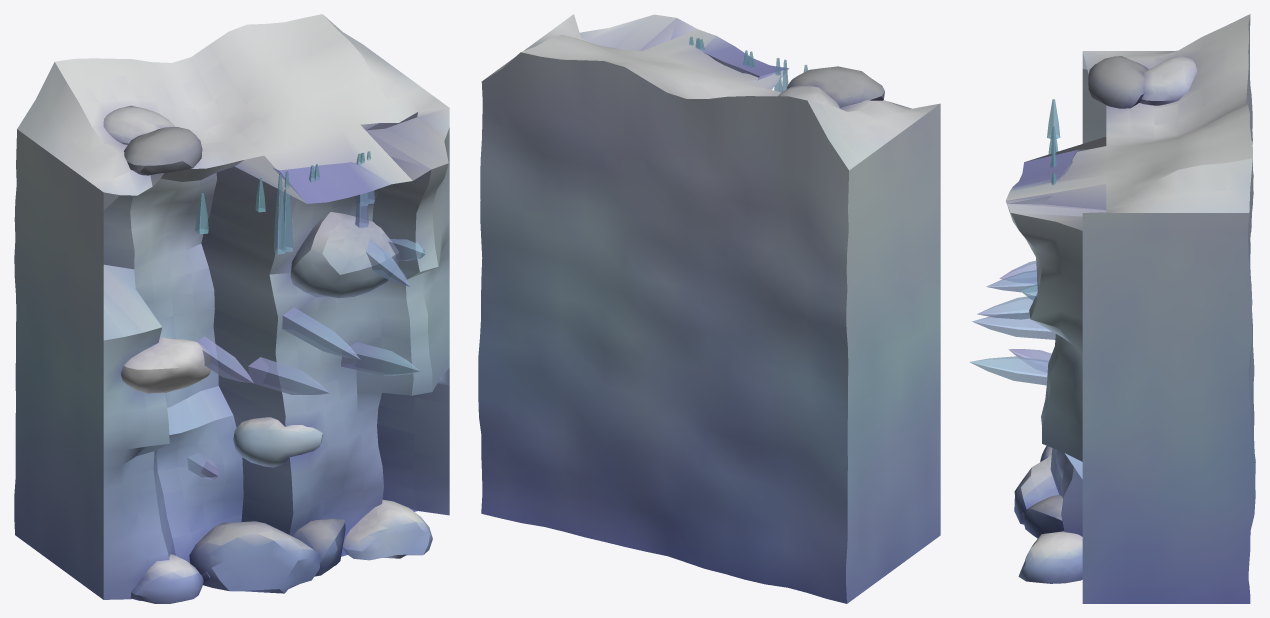
Rendered from glass_cliff_ice_b.glb.
The picture shows the model from 3 angles, left to right: view 1: azimuth 30°, elevation 25°; view 2: azimuth 150°, elevation 25°; view 3: azimuth 270°, elevation 25°; orthographic projection. The views are drawn at different scales.
Parts seen in each view (by area): view 1: glass_cliff_ice_b; view 2: glass_cliff_ice_b; view 3: glass_cliff_ice_b.
Part boxes in pixels (x1=…): glass_cliff_ice_b: x1=14, y1=14, x2=449, y2=603; glass_cliff_ice_b: x1=478, y1=14, x2=940, y2=603; glass_cliff_ice_b: x1=969, y1=14, x2=1255, y2=603.
Size of the model in its own units: 16 by 20.71 by 11.96.
